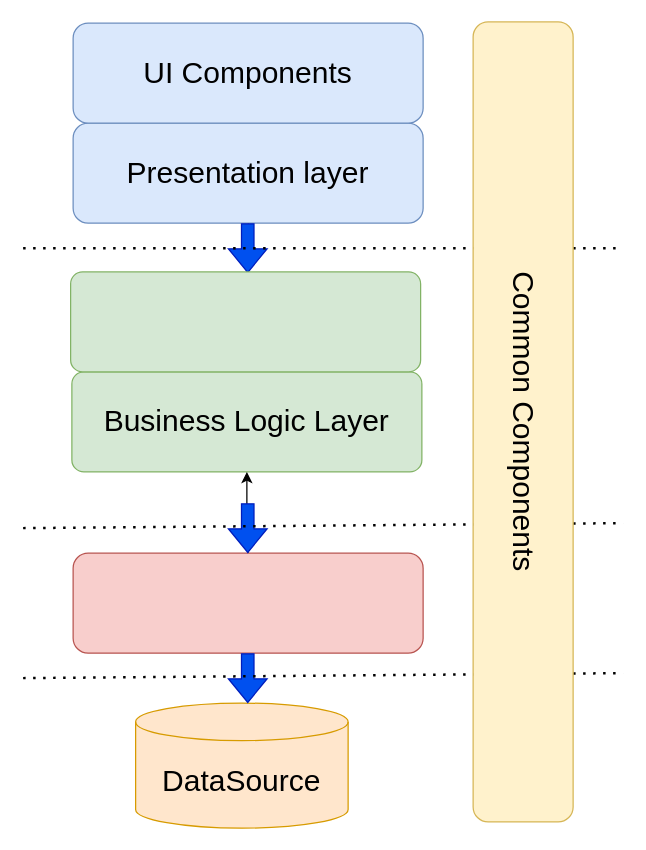
Image size: 646x850. Some labels were removed from this diagram. The shapes that lost their labels are listed below. From the top down, each one's centre as x and y in pixels, then its label:
(x=245, y=321): Service Layer
(x=247, y=602): Data Access Layer
